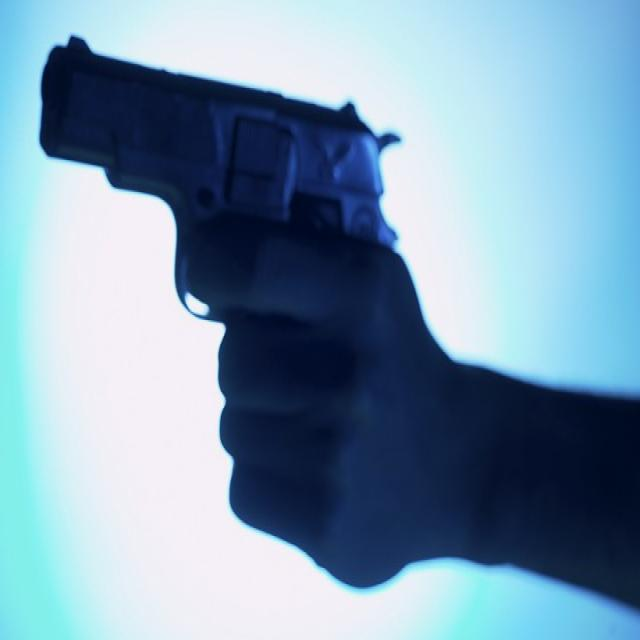pistol: (40, 32, 409, 334)
